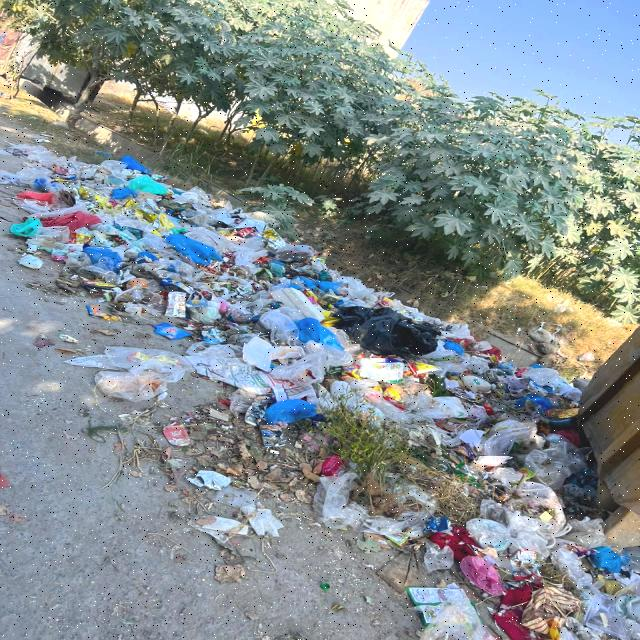garbage: (10, 141, 636, 637)
